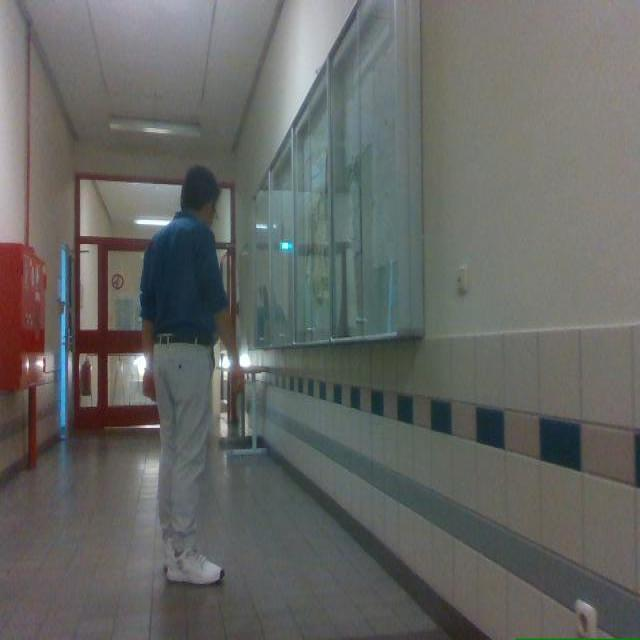humans: (140, 167, 237, 583)
